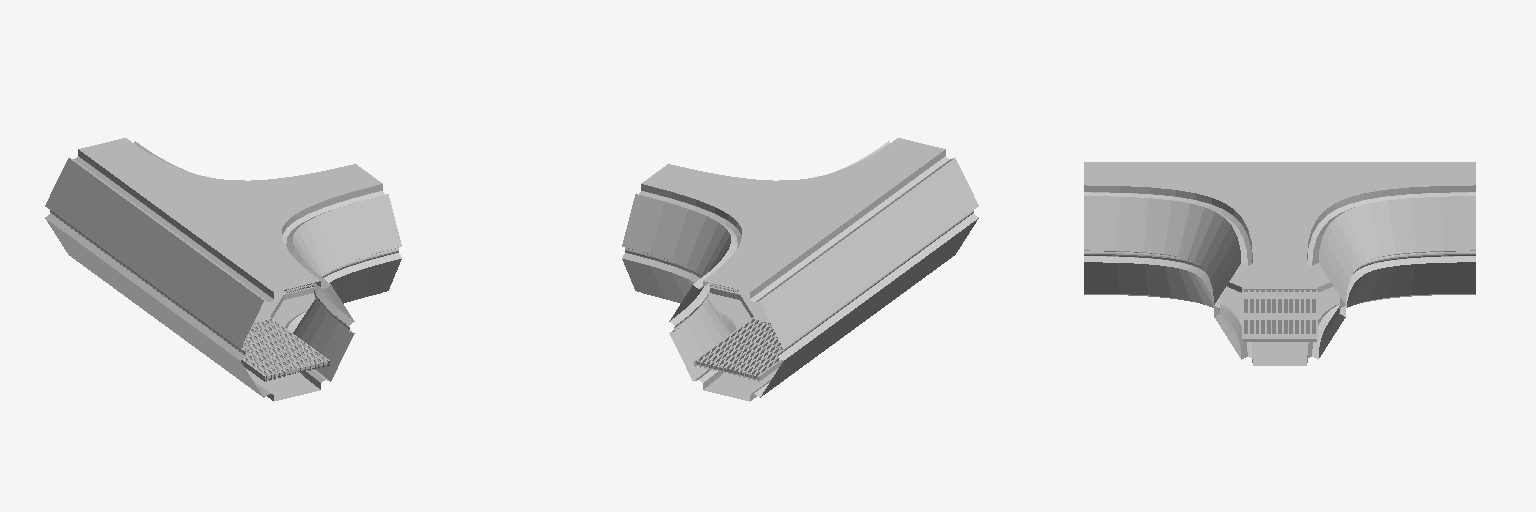
File: HallwayFork.obj
3 renders of one model, left to right at view 1: azimuth 30°, elevation 25°; view 2: azimuth 150°, elevation 25°; view 3: azimuth 270°, elevation 25°, orthographic.
Parts seen in each view (by area): view 1: 3Way_Cube.086; view 2: 3Way_Cube.086; view 3: 3Way_Cube.086.
Part boxes in pixels (left/top/right/bottom): 3Way_Cube.086: left=45, top=138, right=401, bottom=401; 3Way_Cube.086: left=622, top=138, right=978, bottom=401; 3Way_Cube.086: left=1084, top=162, right=1475, bottom=365.
Bounding box in the file's own units: 34.74 × 16 × 52.